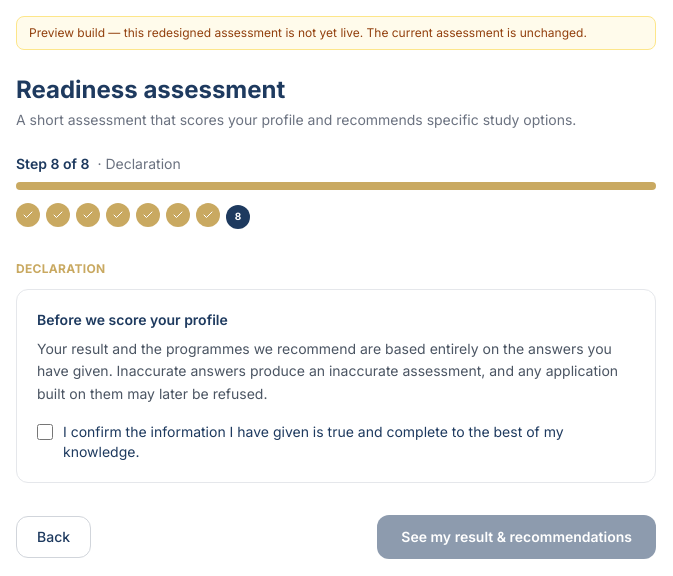
Scenario: the declaration step › keeps Submit disabled until the box is ticked
The width and height of the screenshot is (673, 576).
Check: the button "See my result & recommendations" is disabled, box [377,515,656,559]
Click the checkbox at (45, 432), box [37,424,53,440]
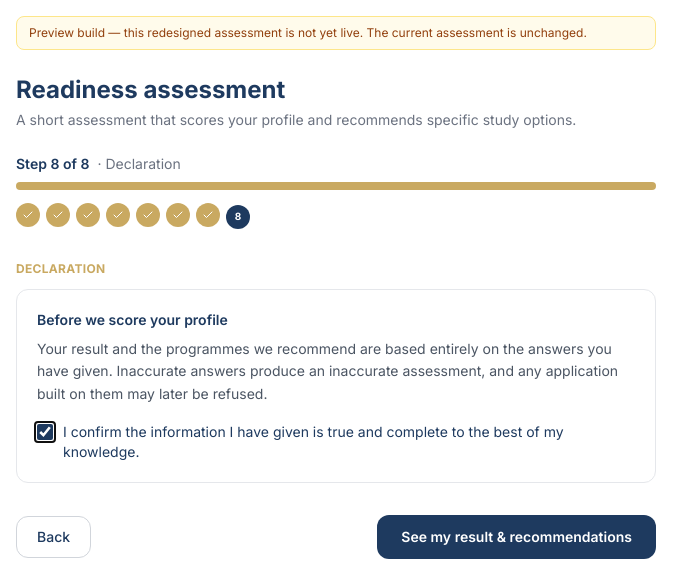
Check: the button "See my result & recommendations" is enabled
Click the button "See my result & recommendations" at (517, 537), box [377,515,656,559]
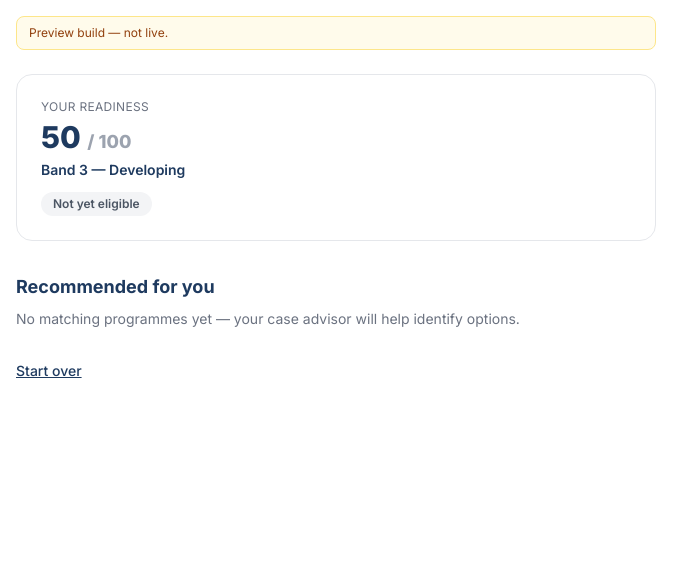
Check: the text "Your readiness" is shown, box [41,99,149,114]
